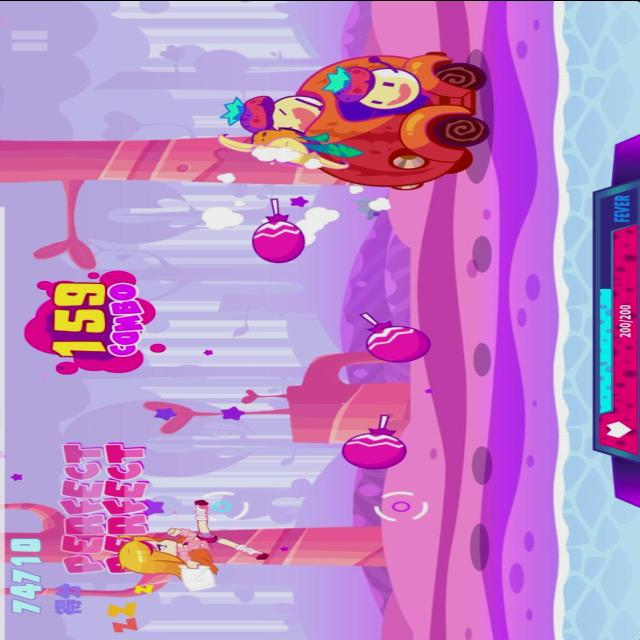cheboss: (219, 49, 490, 187)
tang: (250, 195, 310, 264), (340, 412, 410, 470), (359, 309, 432, 362)
